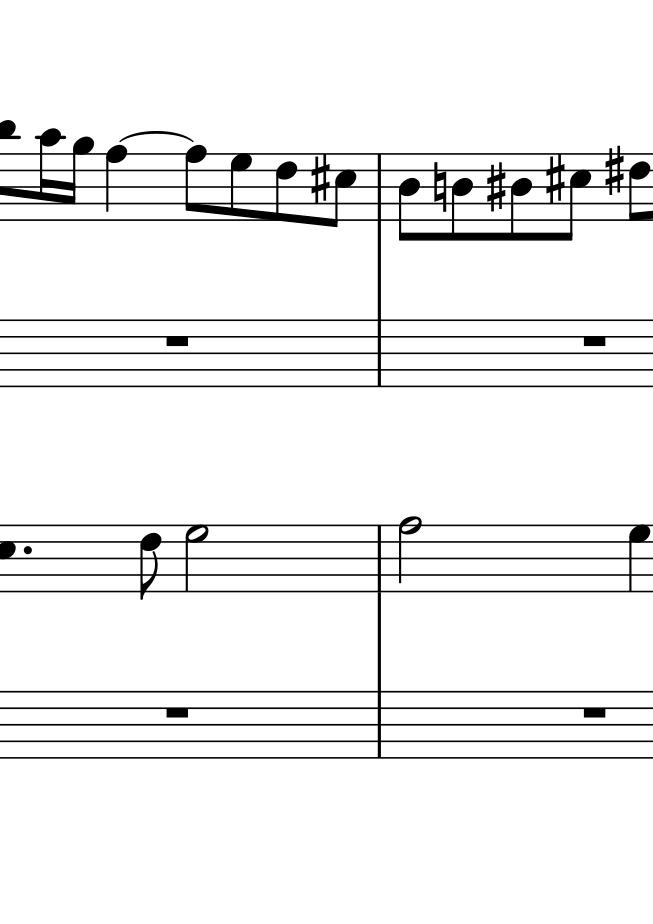16_10: (38, 127, 64, 222)
16_5: (328, 153, 358, 227)
16_9: (68, 137, 93, 222)
2_7: (183, 523, 211, 594)
2_8: (397, 514, 423, 595)
4_7: (625, 522, 651, 594)
4_8: (104, 144, 128, 221)
8_4: (397, 151, 424, 241), (451, 149, 474, 242), (509, 151, 532, 241)
8_5: (560, 152, 593, 241)
8_6: (138, 524, 162, 601), (628, 153, 653, 224), (275, 151, 298, 224)
8_7: (229, 153, 257, 221)
8_8: (185, 144, 211, 222)
Natural: (432, 159, 449, 212)
Rests1: (580, 328, 613, 351), (580, 702, 613, 720), (163, 330, 193, 349), (164, 701, 192, 721)
Sharp: (602, 142, 625, 198), (545, 152, 566, 203), (486, 160, 505, 213), (311, 154, 330, 202)
Single_barline: (370, 150, 388, 221), (370, 318, 388, 388), (373, 525, 388, 594), (373, 688, 387, 761)
Slur: (119, 131, 198, 144)
dot: (19, 540, 35, 561), (19, 544, 34, 556)
